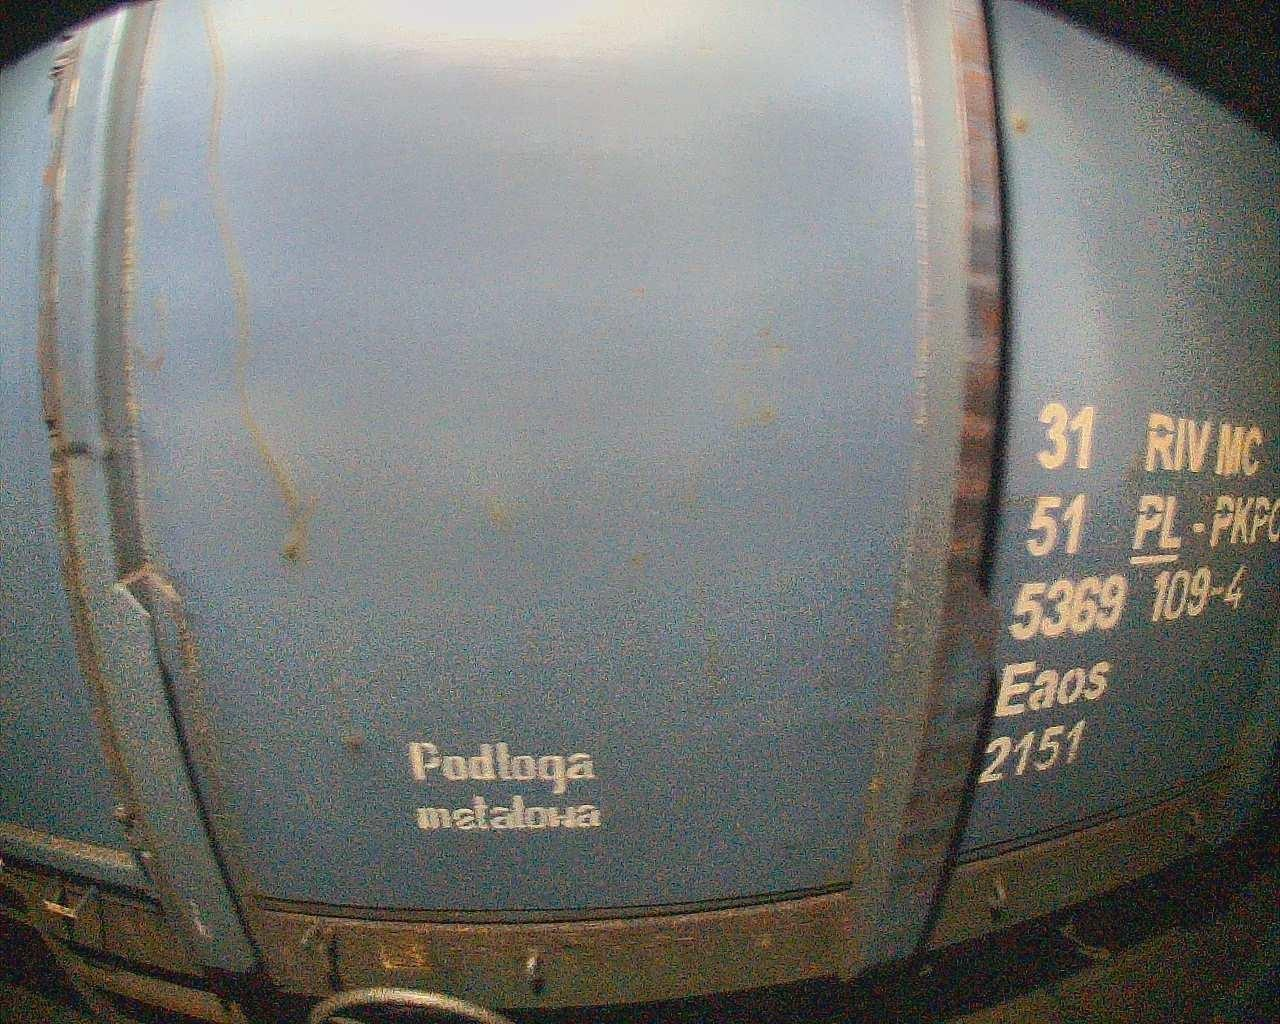UIC: (973, 398, 1280, 790)
